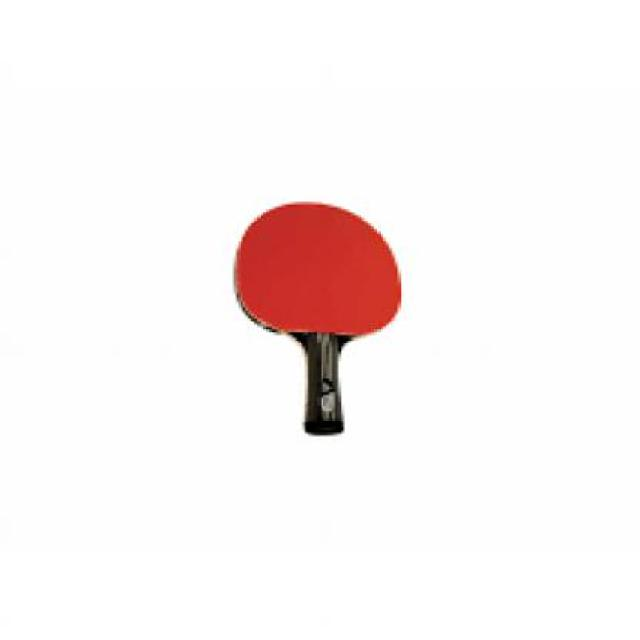table_tennis_racket: (224, 198, 405, 342)
